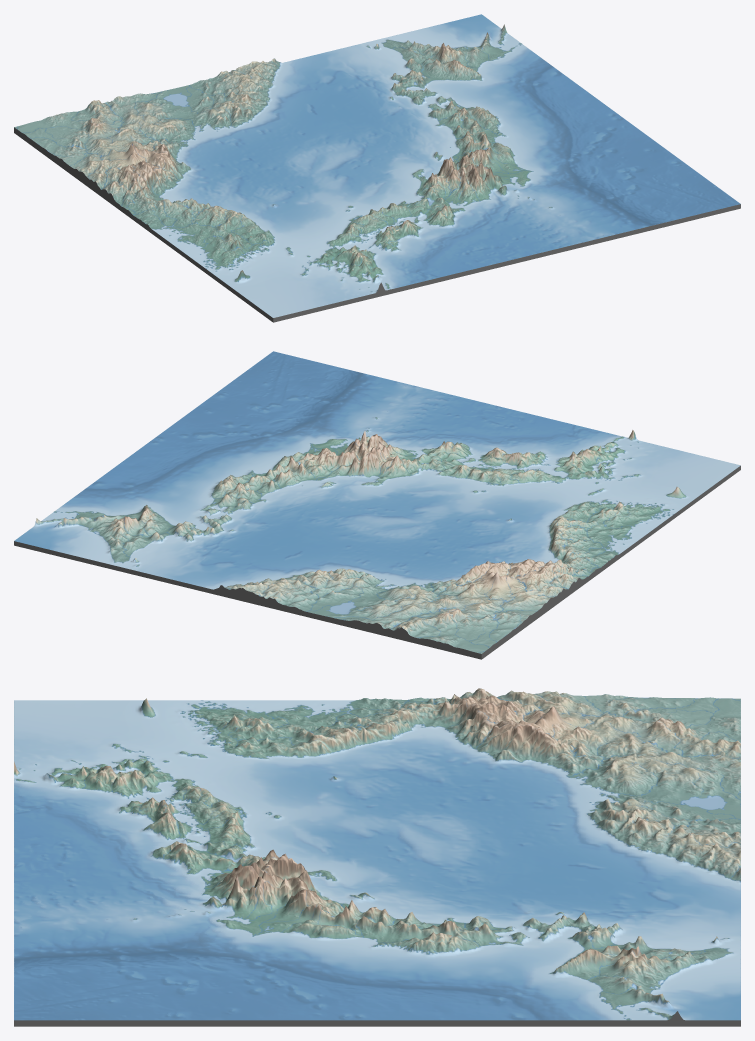
The model's file is japan3.glb.
The picture shows the model from 3 angles, top to bottom: view 1: azimuth 30°, elevation 25°; view 2: azimuth 150°, elevation 25°; view 3: azimuth 270°, elevation 25°; orthographic projection. The views are drawn at different scales.
Parts seen in each view (by area): view 1: japan3; view 2: japan3; view 3: japan3.
Part boxes in pixels (left/top/right/bottom): japan3: left=14, top=14, right=740, bottom=322; japan3: left=14, top=351, right=740, bottom=659; japan3: left=14, top=688, right=740, bottom=1026.
Size of the model in its own units: 2.51 by 0.1385 by 2.41.
2 materials, 1 textured.
